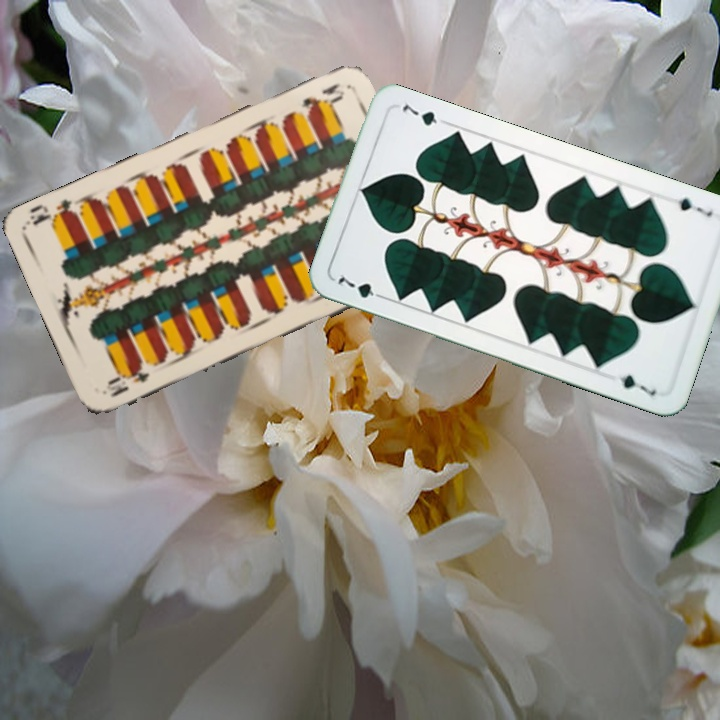E10: (102, 362, 152, 400), (297, 79, 347, 114)
G7: (333, 269, 389, 302), (665, 193, 716, 220)
